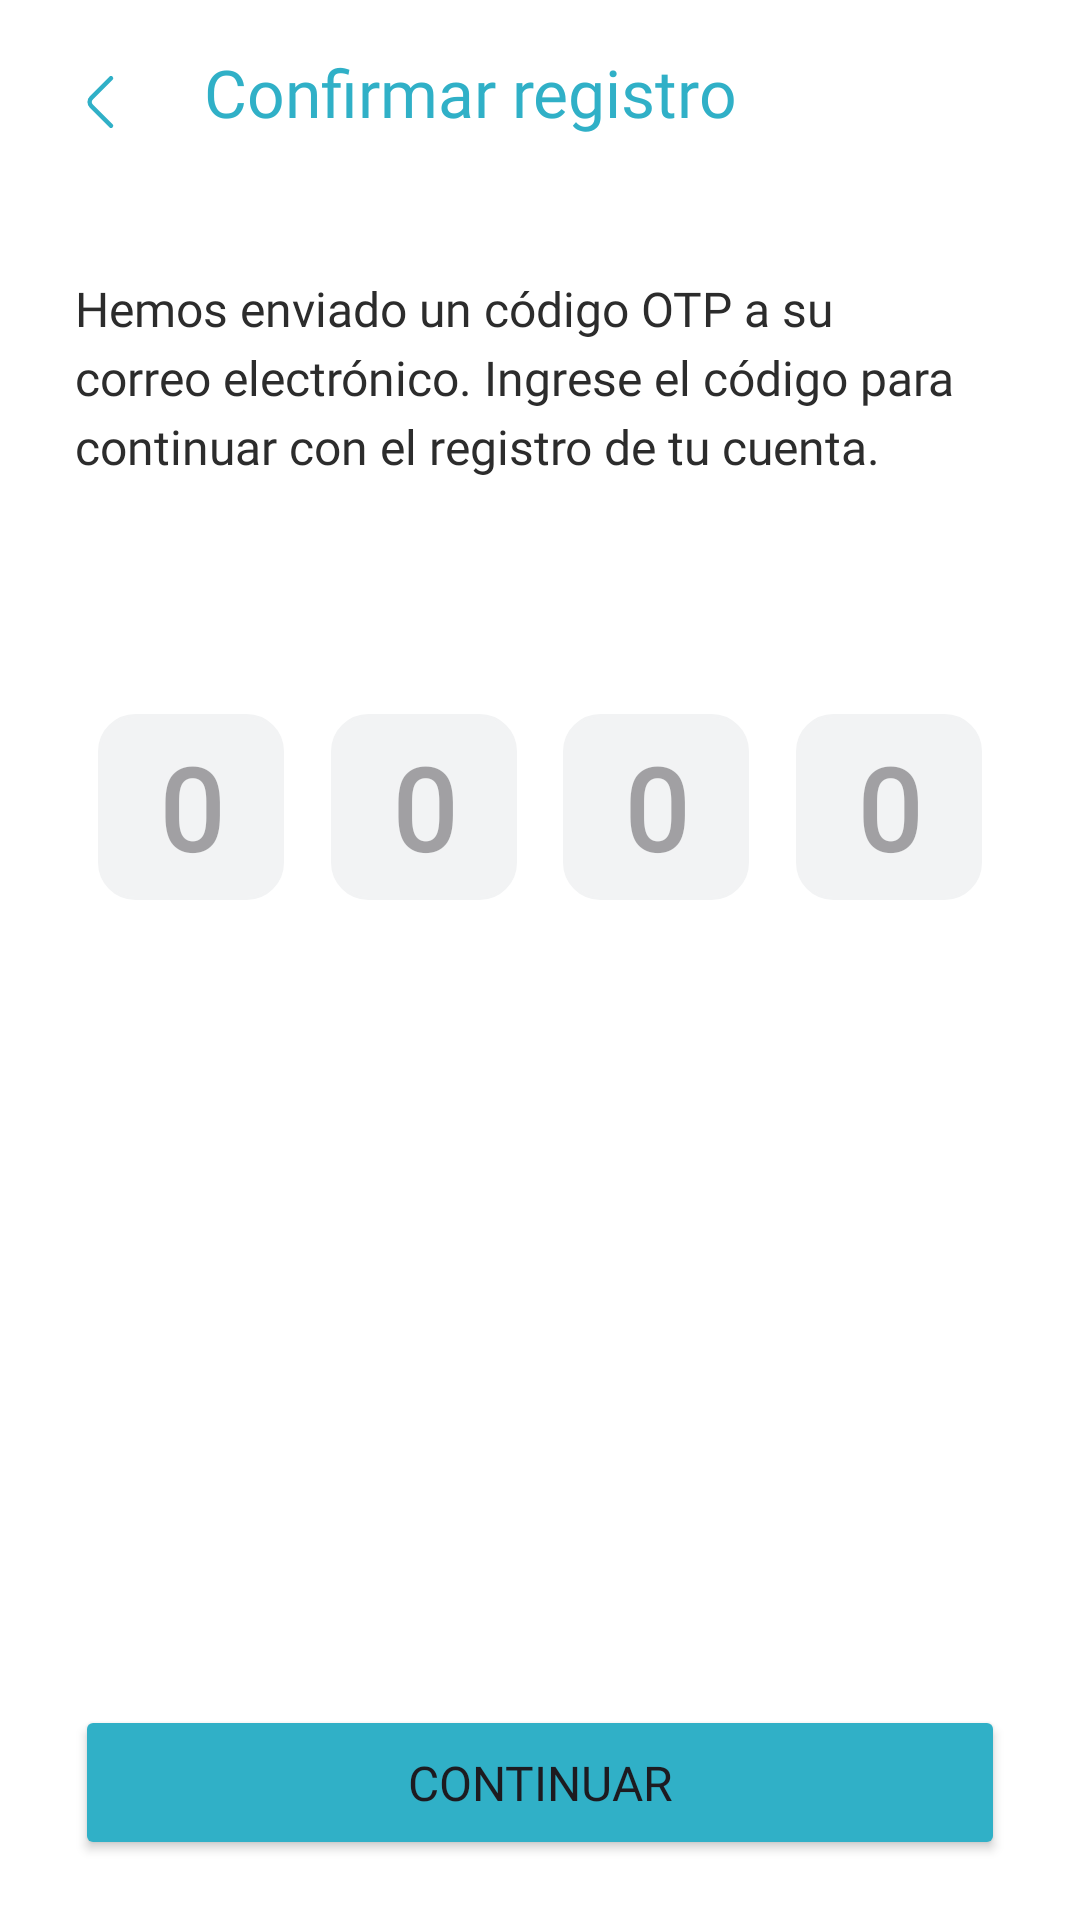

Icon click points for this 1080x1920 phone screenshot, format (x,y):
Botón para regresar: (100,102)
